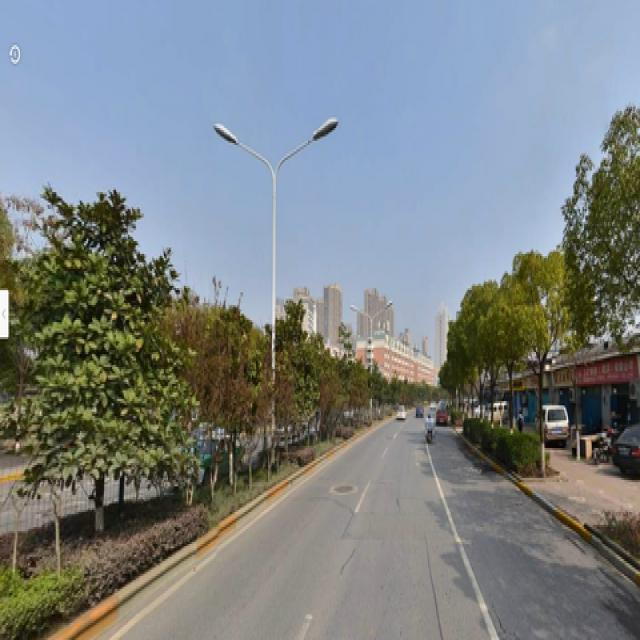cinn: (491, 252, 561, 450)
